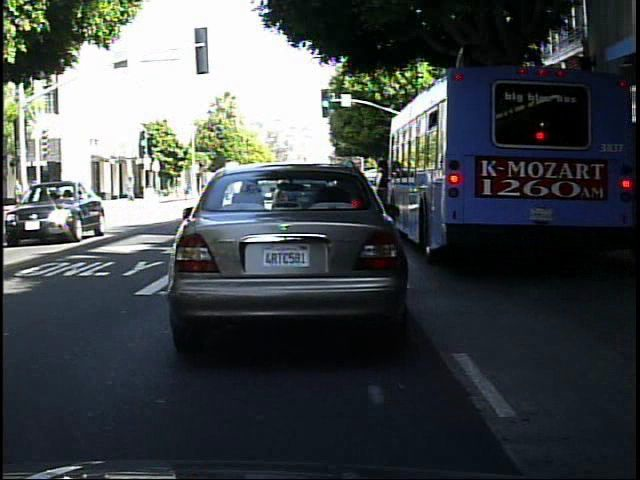person: (71, 174, 89, 213), (14, 175, 30, 217), (58, 175, 75, 214), (29, 175, 44, 215), (123, 171, 140, 206), (48, 179, 64, 215), (12, 177, 29, 210)
